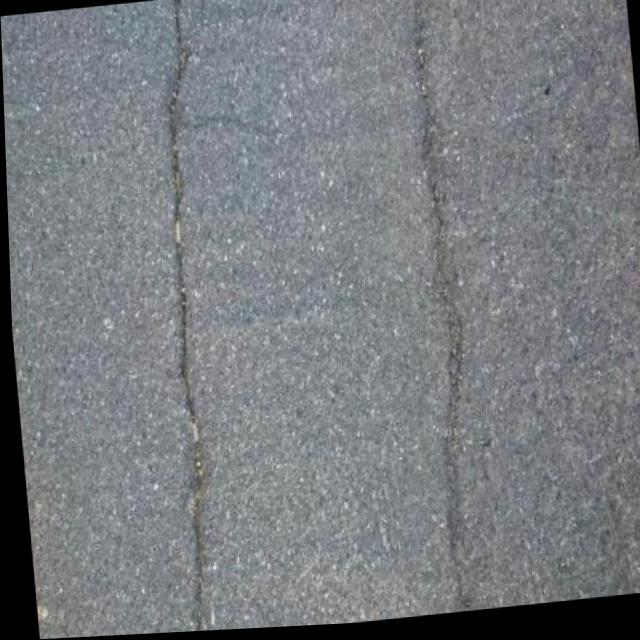Crack: (132, 0, 239, 635), (389, 0, 488, 618)
